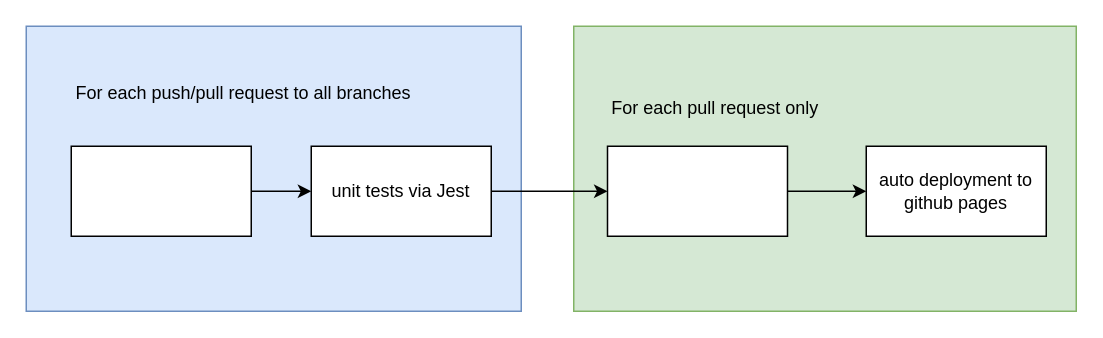
The diagram is 1103 pixels wide and 338 high, and some of its shapes have lost their labels. The centre of each missing label's shape, as x and y in pixels:
code quality via human review: point 697,190
linting and code style with eslint, prettier, and csslint: point 160,190
